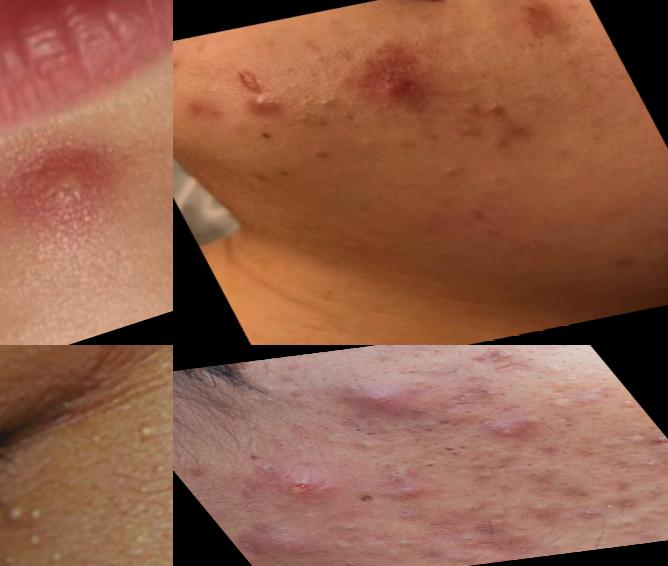acne_scars: (224, 65, 280, 101)
blackhead: (391, 415, 472, 441), (419, 152, 474, 188), (356, 458, 418, 487), (477, 163, 516, 193), (334, 108, 373, 135), (339, 422, 385, 443), (432, 442, 473, 462), (310, 91, 340, 117), (509, 467, 548, 487), (413, 458, 451, 478), (503, 353, 545, 371), (456, 500, 495, 517), (418, 346, 459, 361), (498, 346, 536, 351)
milium: (116, 396, 174, 491), (1, 485, 65, 541), (59, 419, 113, 471), (43, 536, 92, 566), (22, 523, 56, 557), (1, 546, 29, 566)
papular: (1, 110, 150, 270), (361, 58, 446, 114), (499, 1, 586, 53), (473, 416, 548, 449), (262, 473, 345, 502), (341, 387, 422, 413), (237, 90, 299, 122), (247, 531, 307, 560)
whitehead: (515, 233, 566, 273), (350, 129, 392, 161), (515, 497, 570, 521), (383, 535, 436, 555), (598, 517, 653, 536), (325, 521, 377, 538), (482, 95, 511, 124), (451, 101, 487, 123), (641, 502, 668, 523), (637, 457, 668, 473)
